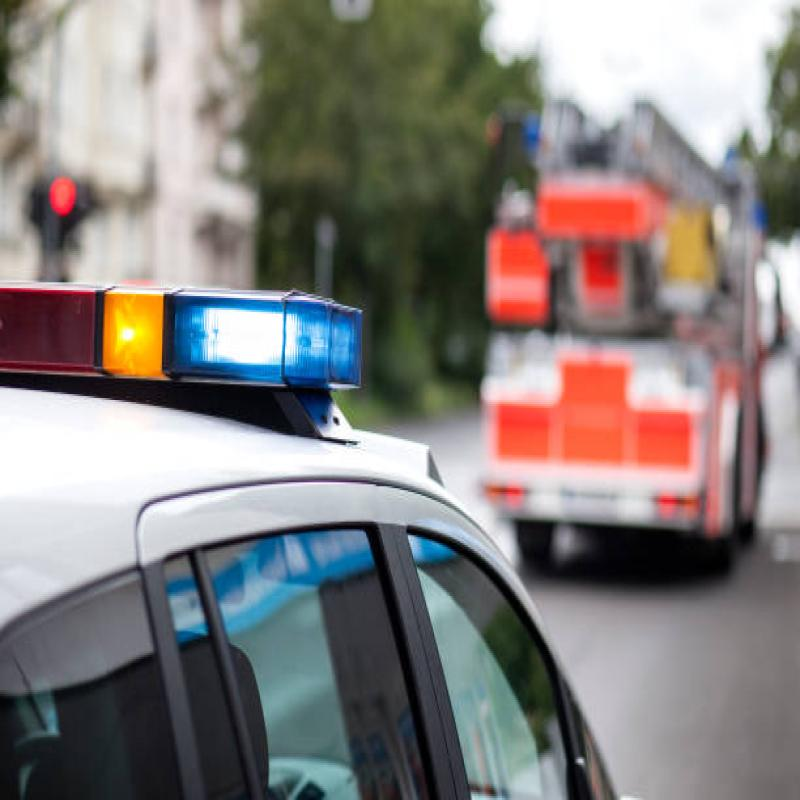AmbulanceSiren: (1, 220, 369, 464)
